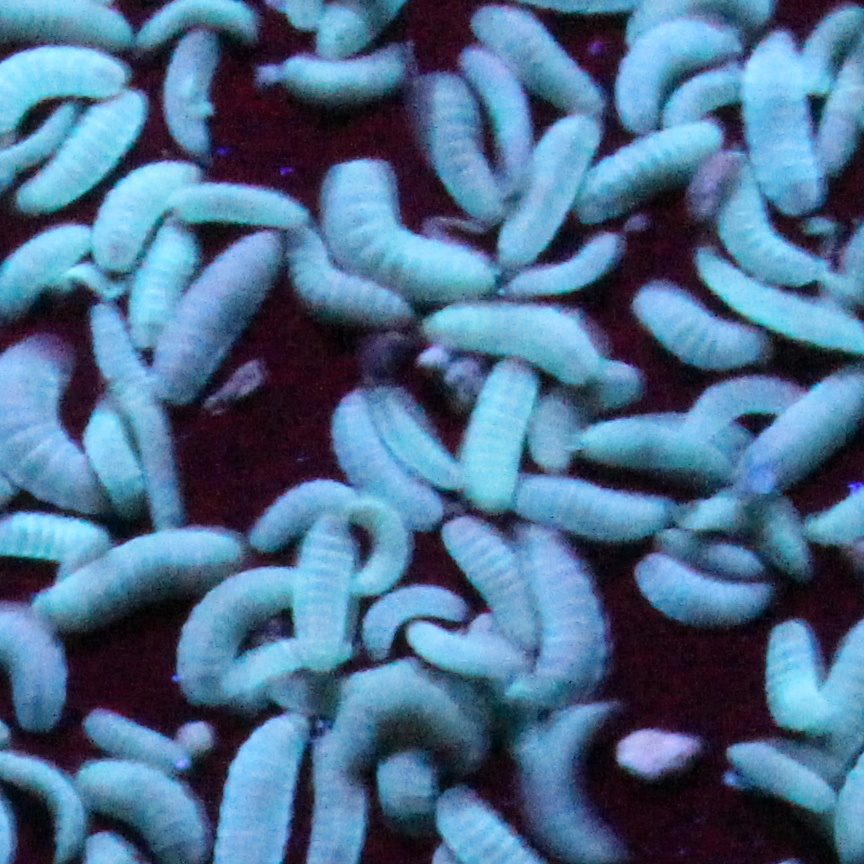larve: (327, 135, 500, 297), (505, 527, 617, 715), (145, 240, 275, 400), (350, 650, 497, 787), (182, 557, 302, 722), (12, 85, 145, 227), (745, 27, 840, 215), (35, 535, 242, 620), (490, 112, 595, 272), (330, 390, 447, 532), (587, 117, 730, 230), (425, 72, 527, 230), (472, 12, 620, 120), (430, 285, 592, 382), (127, 25, 247, 152), (617, 25, 742, 140), (122, 380, 205, 552), (102, 140, 200, 280), (280, 522, 370, 672), (367, 365, 465, 500), (625, 285, 772, 375), (582, 417, 747, 495), (440, 520, 532, 642), (725, 727, 855, 810), (470, 342, 532, 512), (282, 235, 410, 317), (630, 555, 775, 622), (517, 477, 680, 535), (175, 172, 325, 235), (470, 40, 535, 180), (122, 230, 197, 342), (767, 620, 842, 730), (77, 707, 190, 780), (275, 45, 415, 102), (675, 60, 752, 155), (0, 222, 97, 297), (685, 540, 770, 585)
